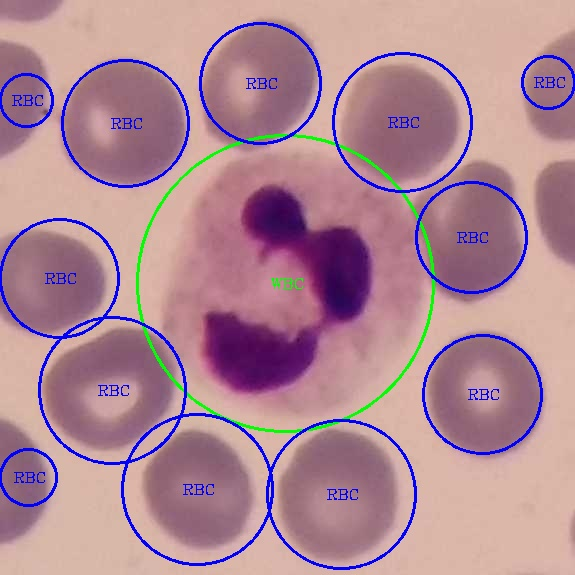RBC: (58, 54, 190, 192), (41, 323, 180, 454), (275, 425, 405, 565), (425, 325, 548, 468), (199, 14, 322, 157), (416, 158, 530, 311), (139, 424, 260, 560), (338, 60, 462, 188), (0, 228, 113, 337)
WBC: (162, 153, 425, 410)
